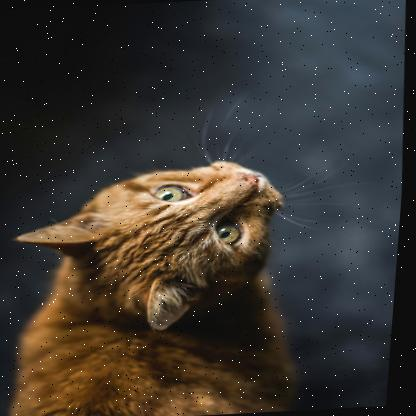cat: (0, 150, 327, 416)
